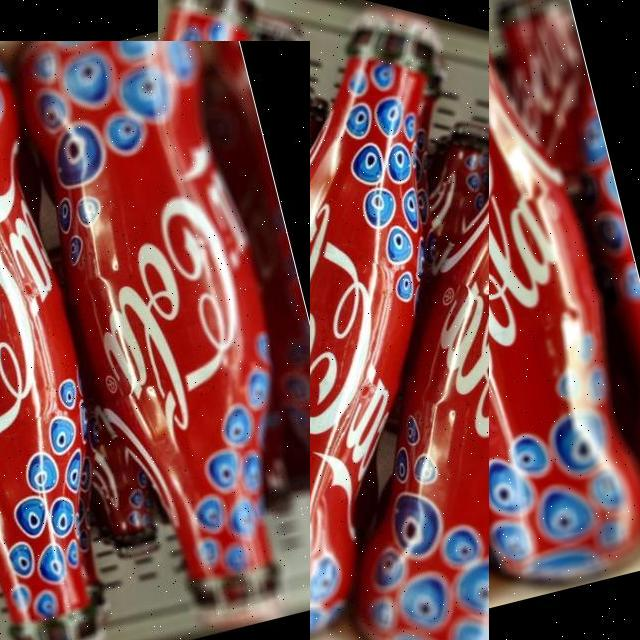coca-cola: (158, 0, 489, 640), (0, 41, 310, 640), (338, 0, 640, 607)
